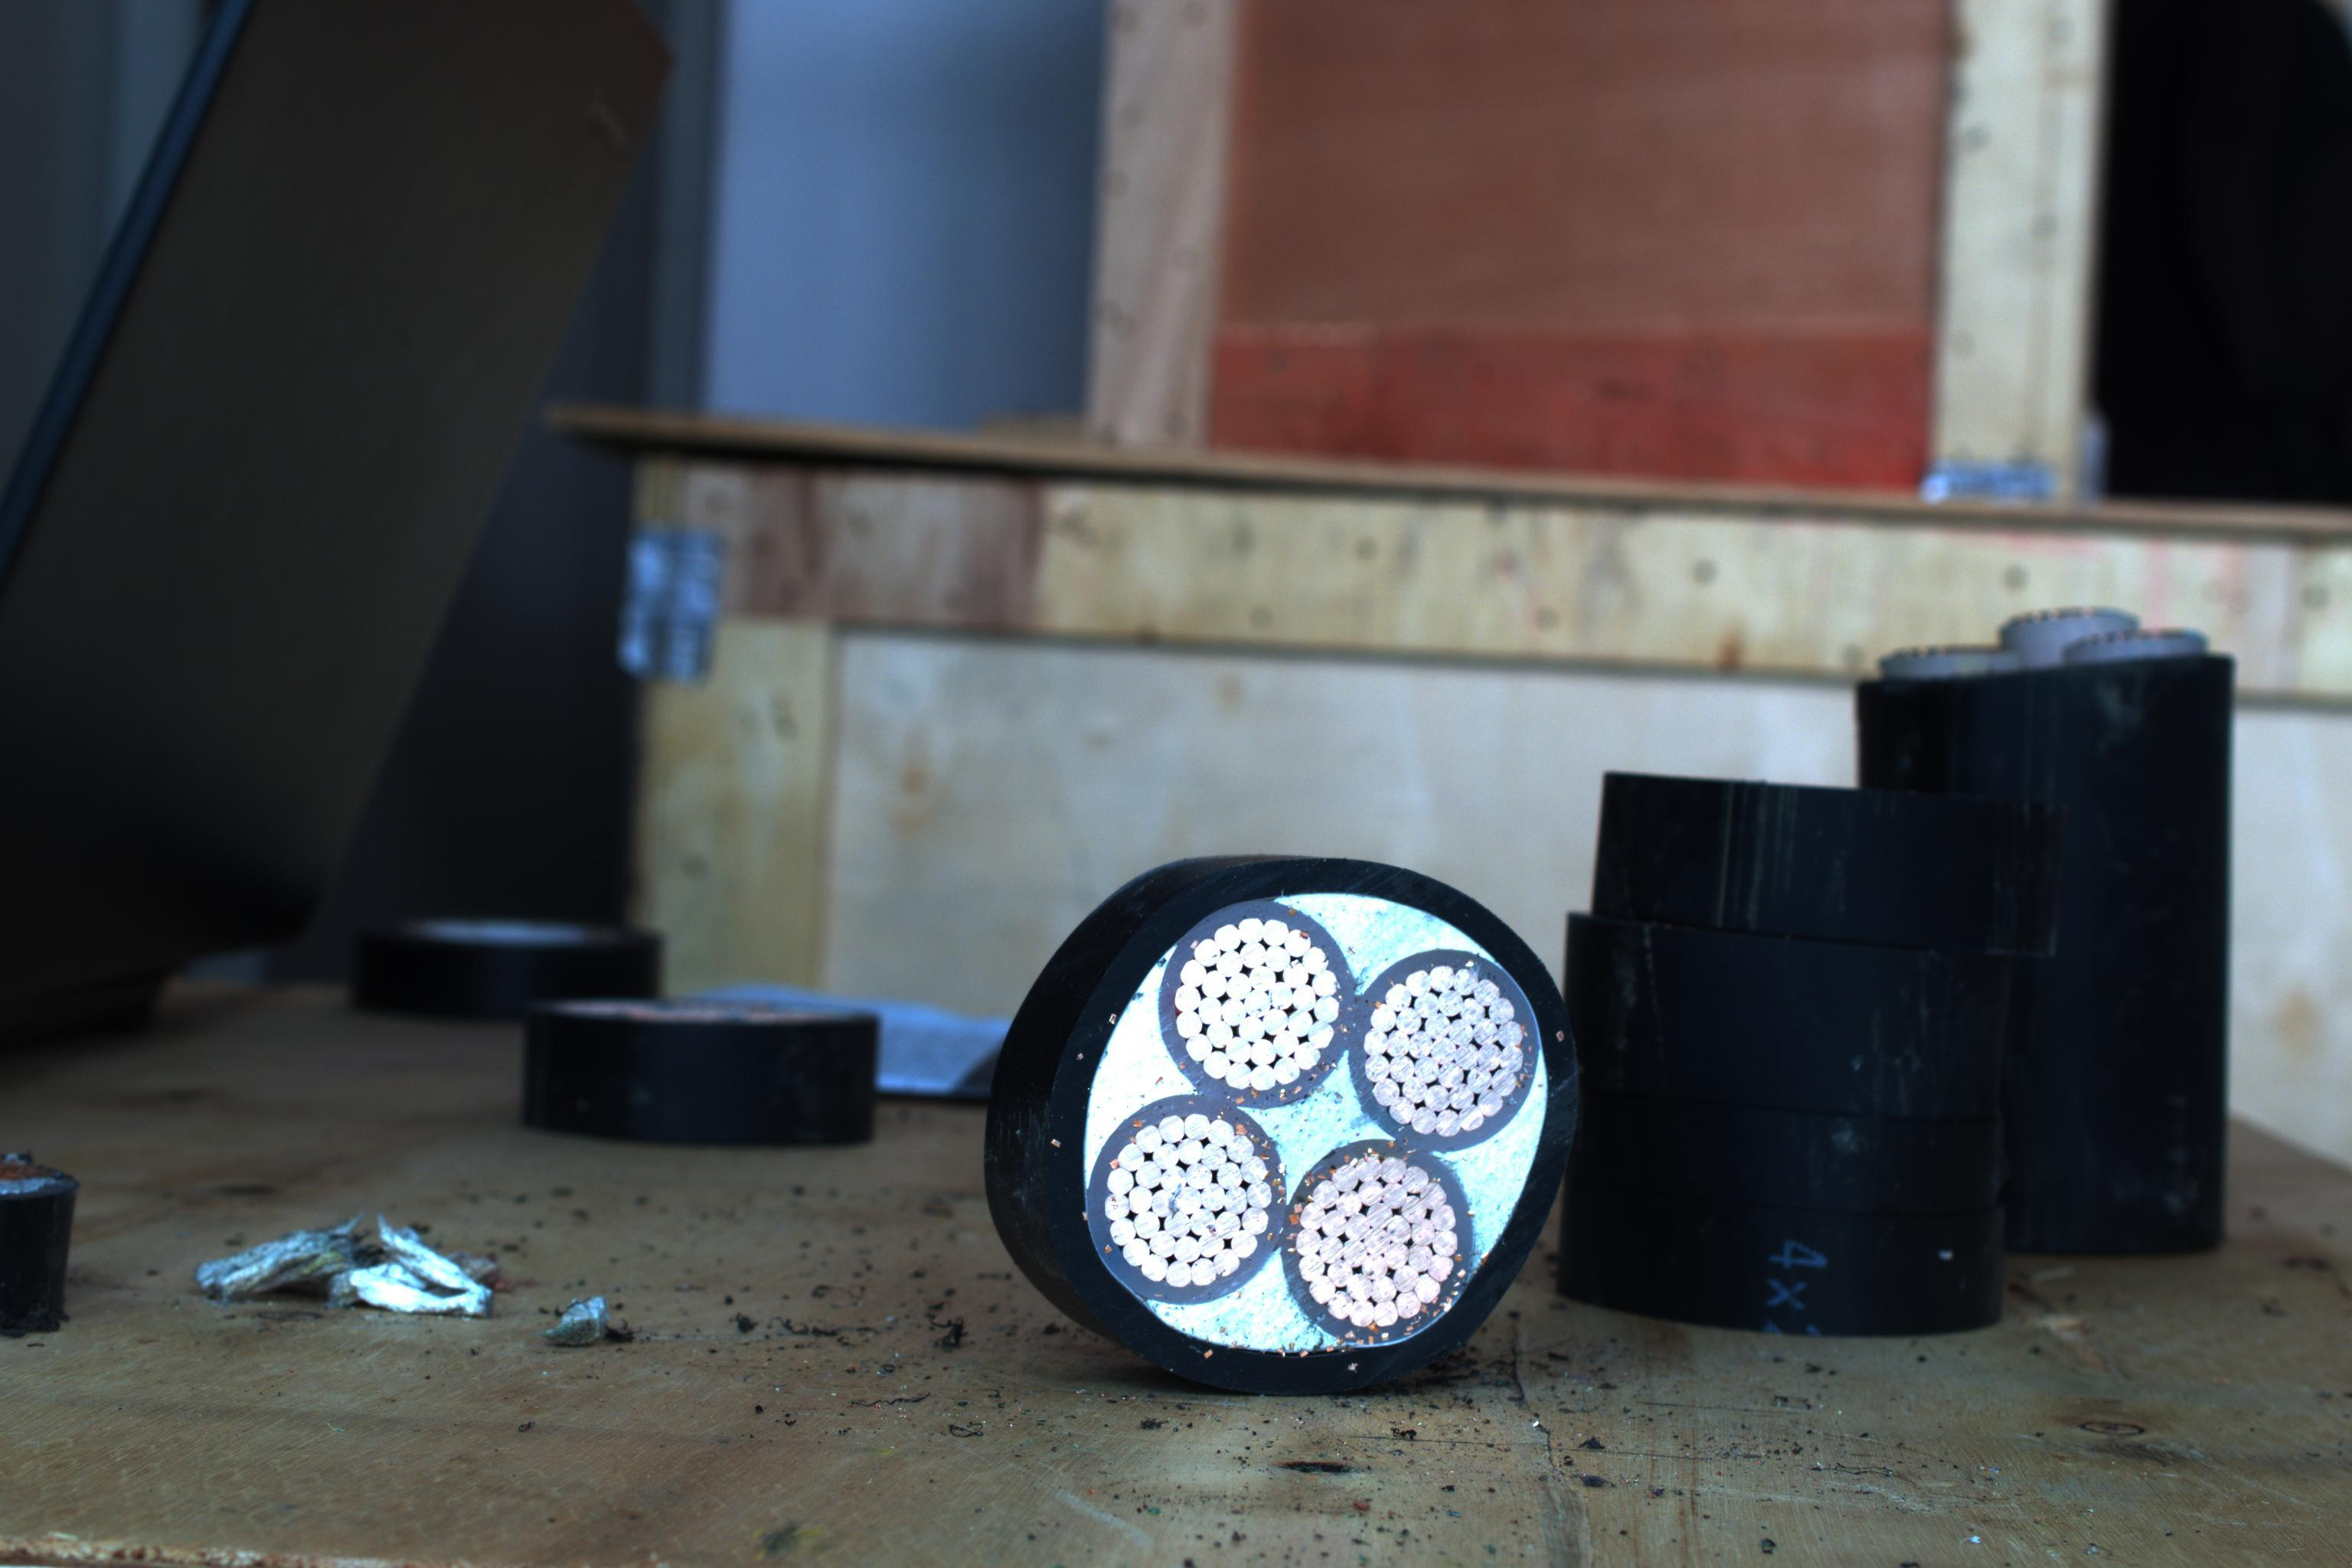YJV_0.6_1kV_4x240: (1017, 857, 1599, 1365)
